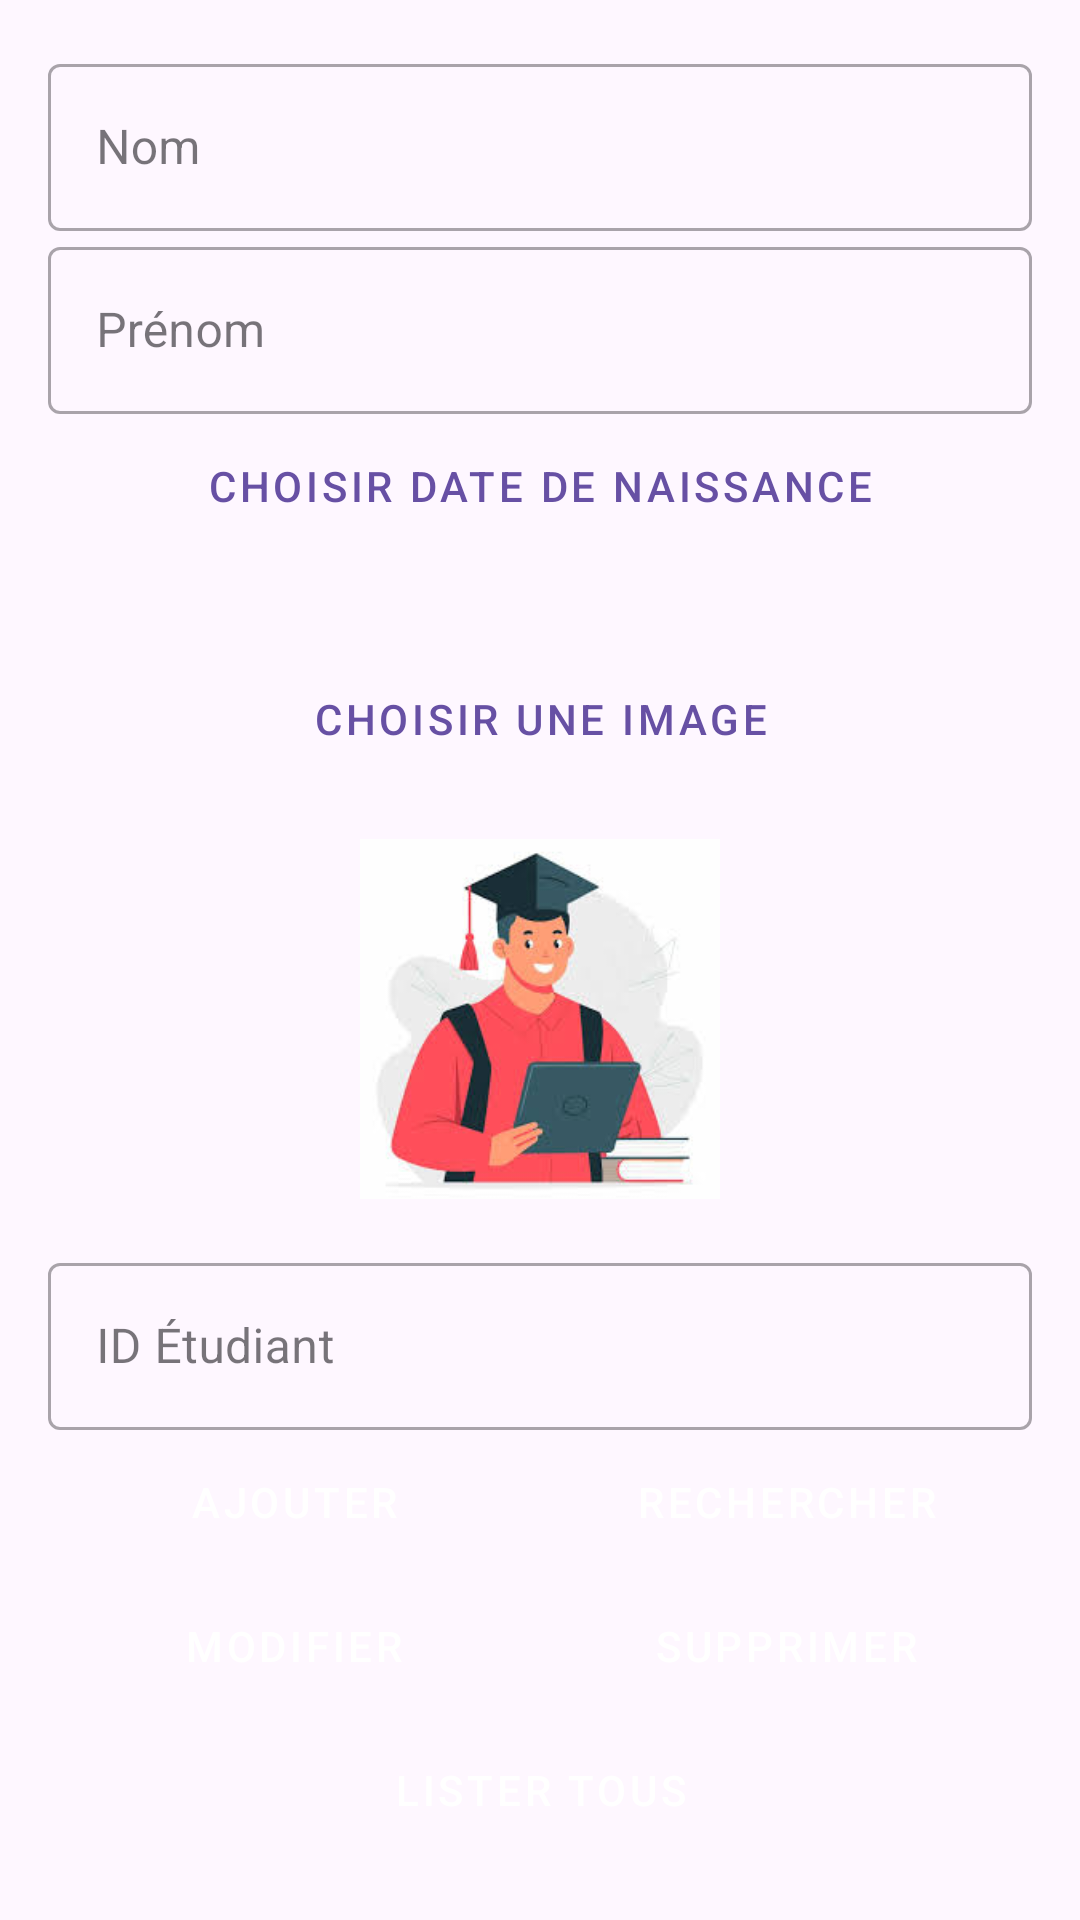

Locate icon controls on the screen. Image size 1080×1920, boxes as (x1, y1, x2, y2).
Photo de l'étudiant: (384, 853, 694, 1185)
